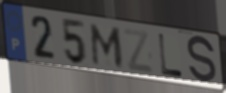2: (30, 15, 57, 63)
5: (59, 16, 89, 66)
L: (157, 32, 184, 79)
M: (89, 22, 125, 69)
S: (185, 34, 218, 86)
Z: (121, 26, 156, 76)
